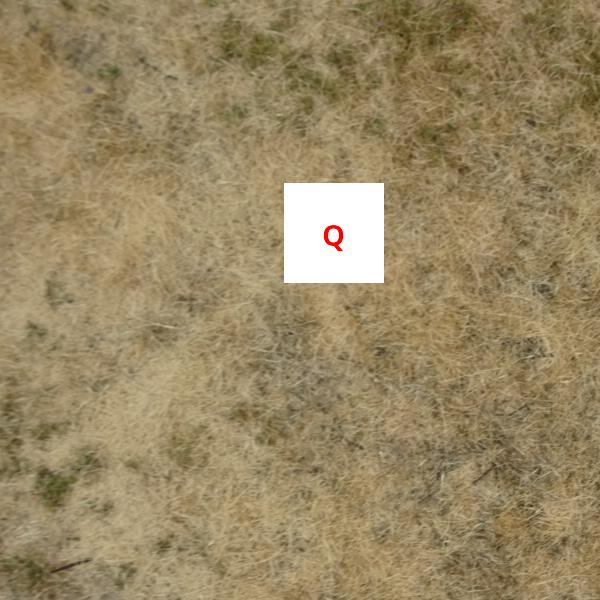Square: (284, 183, 384, 283)
